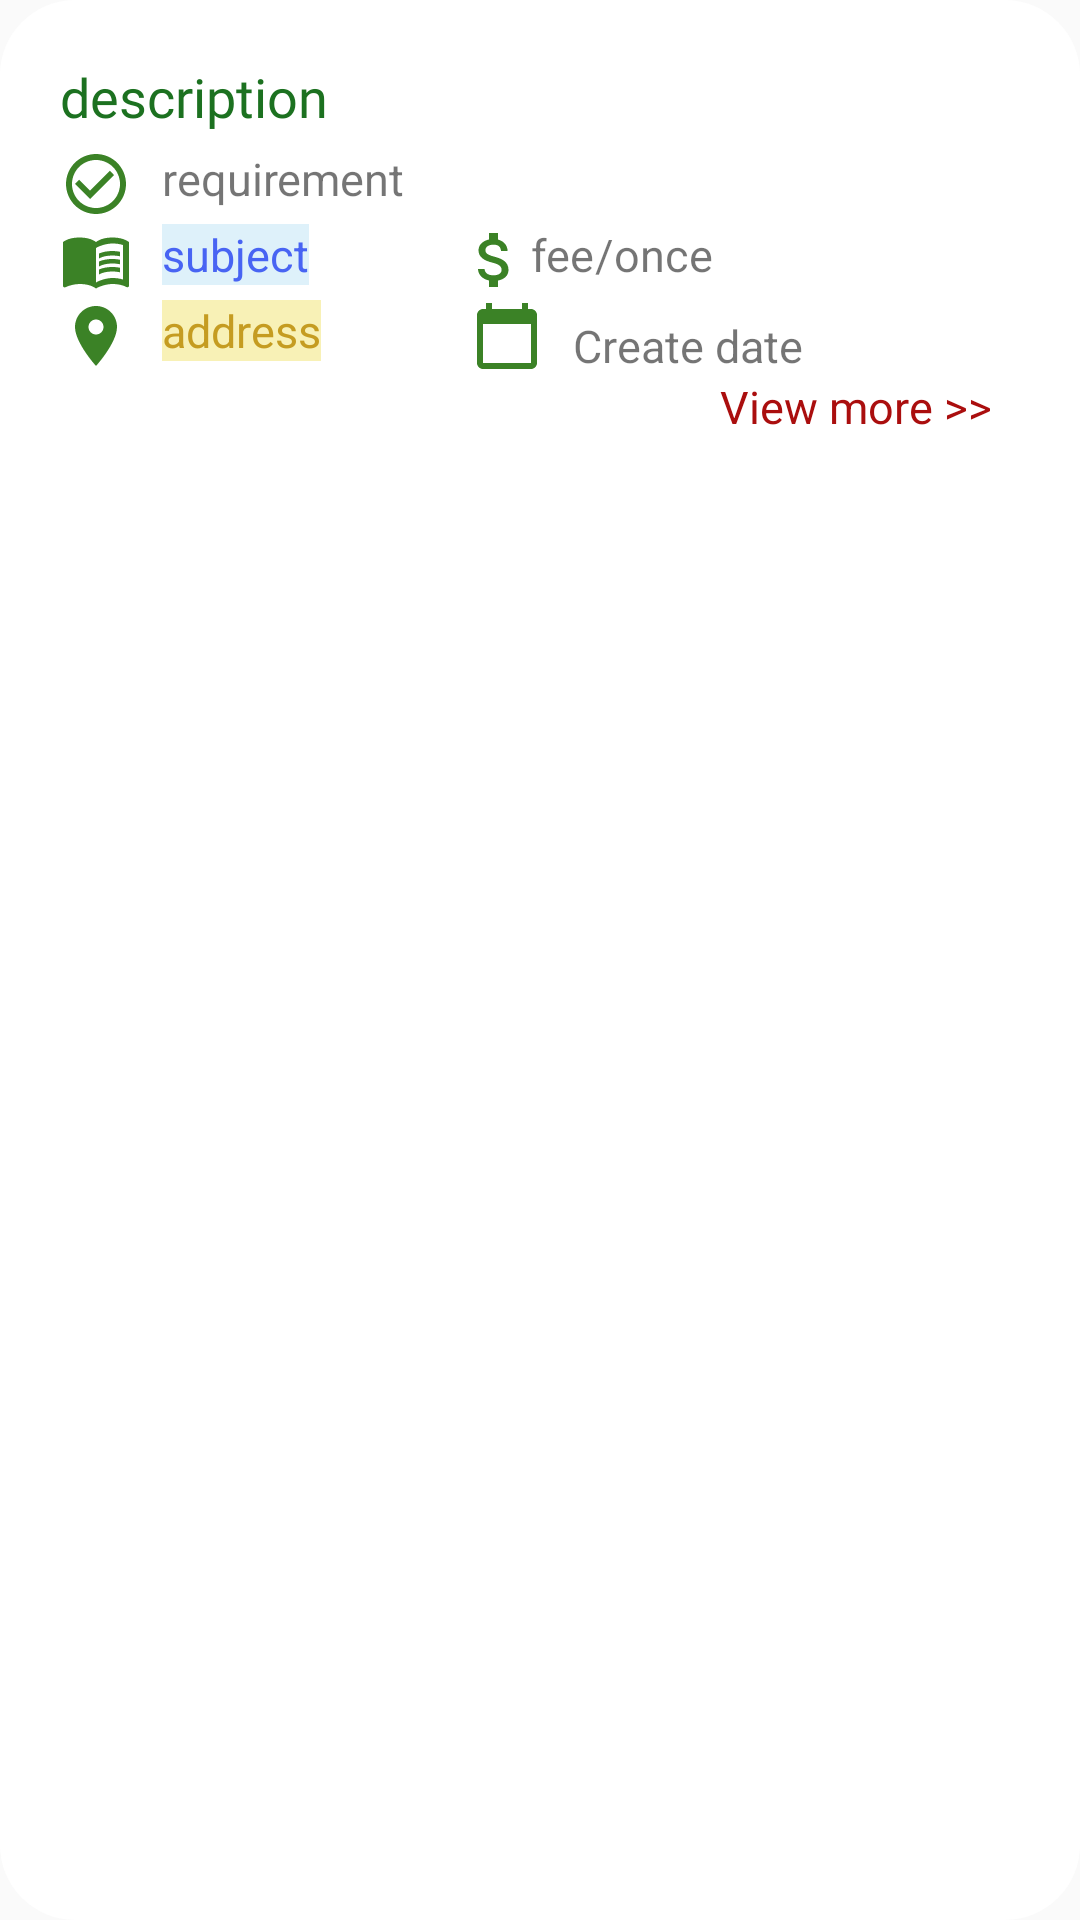

Screen size 1080 x 1920. Icon name, then its box in pixels as (x1, y1, x2, y2):
book: (63, 237, 129, 289)
calendar: (477, 303, 537, 369)
check: (66, 154, 126, 214)
money: (478, 233, 509, 287)
place: (75, 306, 117, 366)
